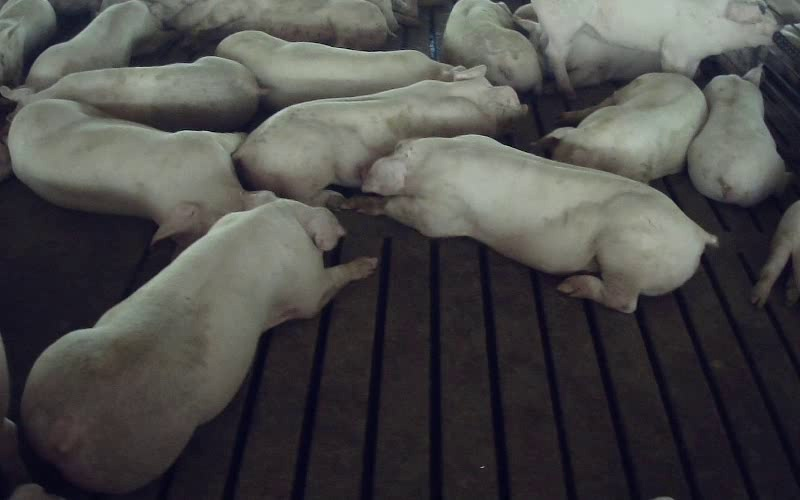pig: (21, 190, 376, 492), (348, 135, 716, 312), (233, 66, 526, 206), (8, 99, 243, 242), (532, 0, 776, 94), (0, 56, 259, 130), (216, 31, 454, 109), (538, 73, 706, 182), (687, 65, 788, 206), (25, 0, 172, 90), (173, 0, 388, 49), (443, 0, 541, 92)
